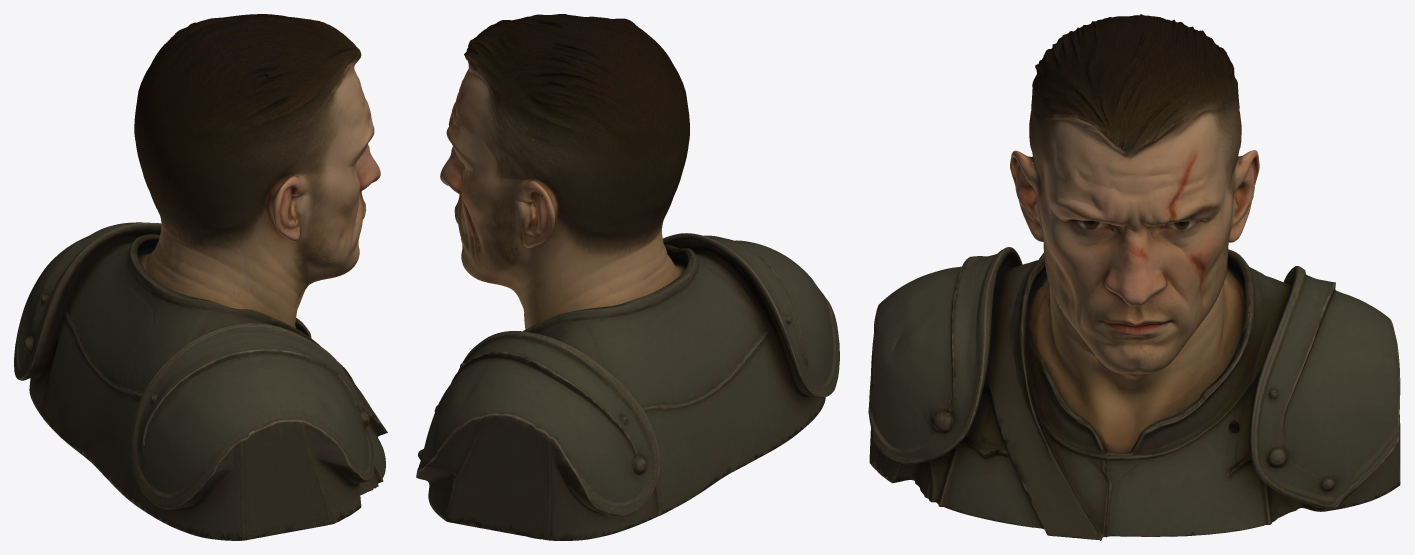
File: Head_male2.glb
The picture shows the model from 3 angles, left to right: view 1: azimuth 30°, elevation 25°; view 2: azimuth 150°, elevation 25°; view 3: azimuth 270°, elevation 25°; orthographic projection. The views are drawn at different scales.
Parts seen in each view (by area): view 1: tripo_node_a0a6f19b-8719-448e-86c9-197ba7173400; view 2: tripo_node_a0a6f19b-8719-448e-86c9-197ba7173400; view 3: tripo_node_a0a6f19b-8719-448e-86c9-197ba7173400.
Part boxes in pixels (x1,y1,x2,y2): tripo_node_a0a6f19b-8719-448e-86c9-197ba7173400: (14,14,387,540); tripo_node_a0a6f19b-8719-448e-86c9-197ba7173400: (416,14,839,540); tripo_node_a0a6f19b-8719-448e-86c9-197ba7173400: (868,14,1400,540).
Bounding box in the file's own units: 0.7378 × 0.9377 × 0.9999.
Materials: 1 (1 with a texture image).
